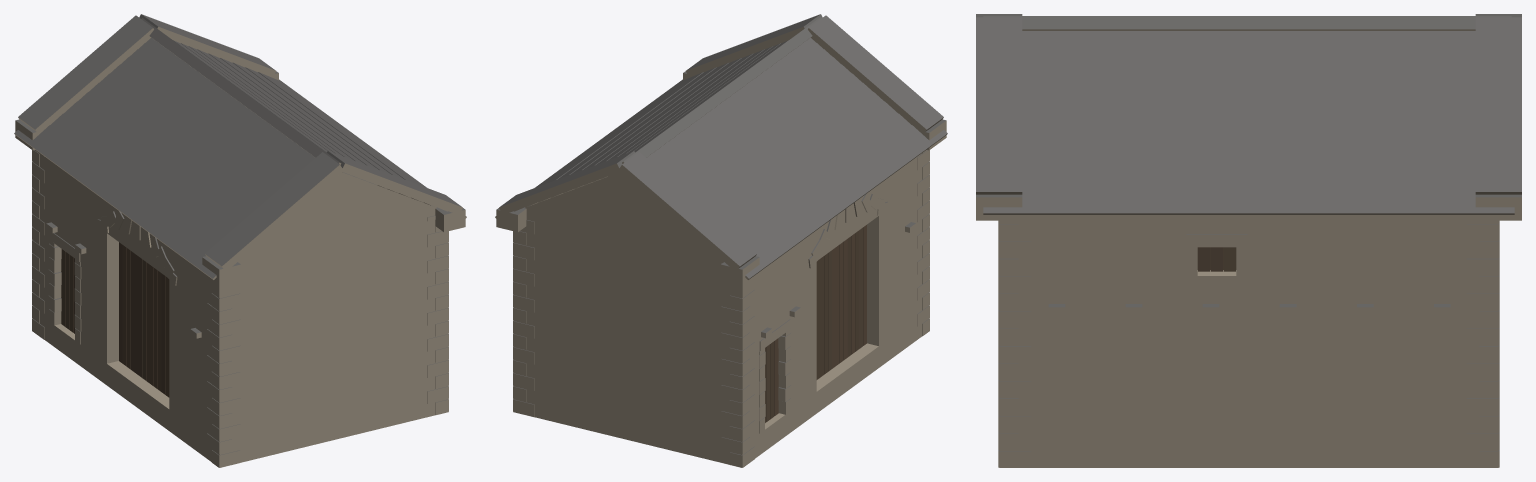
Rendered from context.dales.barn_06.glb.
3 renders of one model, left to right at view 1: azimuth 30°, elevation 25°; view 2: azimuth 150°, elevation 25°; view 3: azimuth 270°, elevation 25°, orthographic. The views are drawn at different scales.
Visible parts, largest first — view 1: main__stone_a98, main__slate_666, main__paint_654, main__paint_544, main__paint_554; view 2: main__stone_a98, main__slate_666, main__paint_654, main__paint_544, main__paint_554; view 3: main__stone_a98, main__slate_666, main__paint_544.
Boxes of the visible parts, x1,y1,x2,y2 form: main__stone_a98: (14, 27, 466, 467); main__slate_666: (14, 14, 466, 455); main__paint_654: (122, 245, 169, 397); main__paint_544: (74, 242, 165, 394); main__paint_554: (61, 249, 146, 380); main__stone_a98: (495, 27, 947, 467); main__slate_666: (495, 14, 947, 455); main__paint_654: (774, 225, 866, 415); main__paint_544: (770, 230, 859, 419); main__paint_554: (765, 227, 862, 422); main__stone_a98: (976, 29, 1521, 467); main__slate_666: (976, 14, 1521, 451); main__paint_544: (1198, 247, 1222, 271).
Size of the model in its own units: 6.11 by 6.49 by 8.5.
